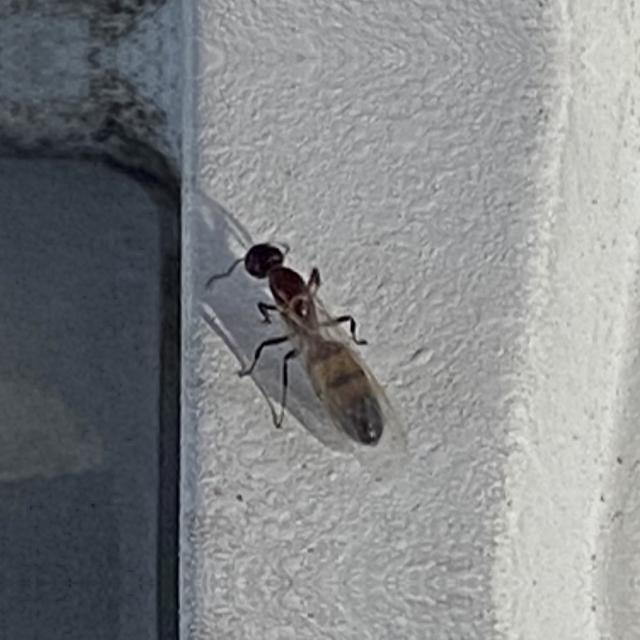Colobopsis: (194, 205, 420, 460)
